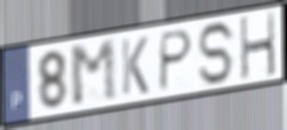8: (34, 48, 69, 111)
H: (238, 10, 277, 83)
K: (119, 34, 150, 97)
M: (67, 37, 120, 110)
P: (156, 27, 195, 94)
S: (196, 19, 237, 88)
